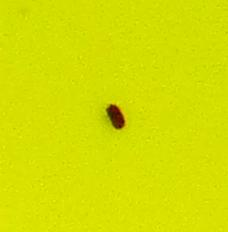Coleoptera: (100, 100, 128, 132)
